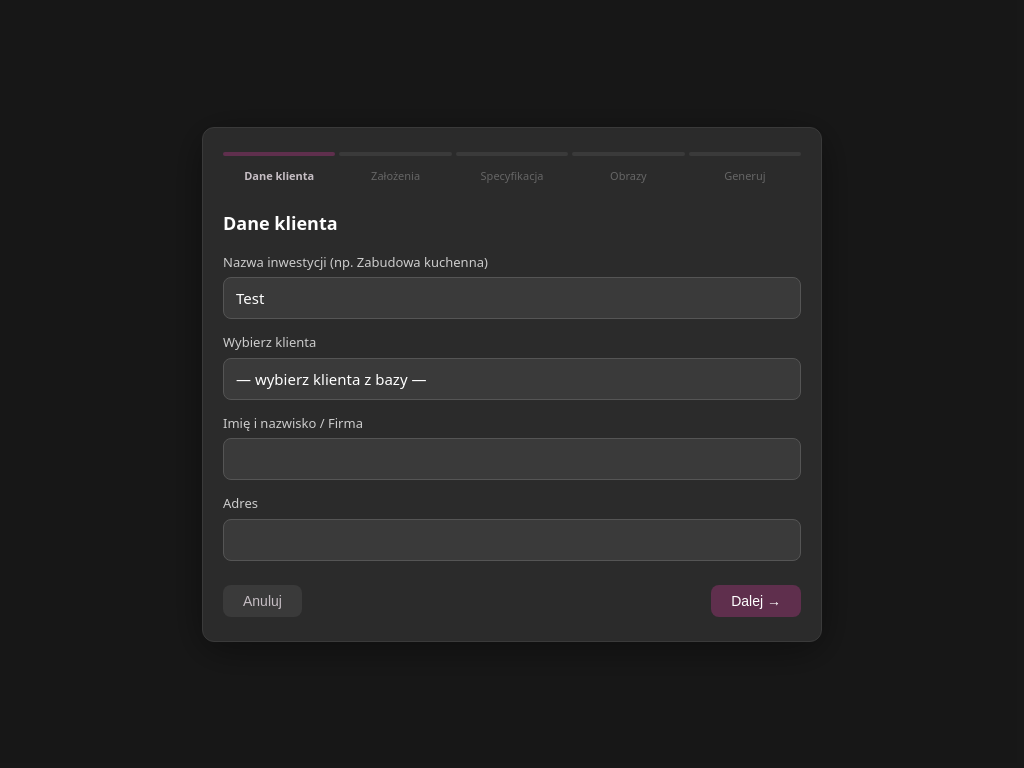
KreatorPDF › przechodzi przez wszystkie 5 krokow
This screenshot has width=1024, height=768.
Expected: the field with placeholder "np. Zabudowa kuchenna" below "Nazwa inwestycji (np. Zabudowa kuchenna)" is shown, x1=223 y1=277 x2=801 y2=319
Click the button "Dalej →" at (756, 600), box x1=711 y1=584 x2=801 y2=616
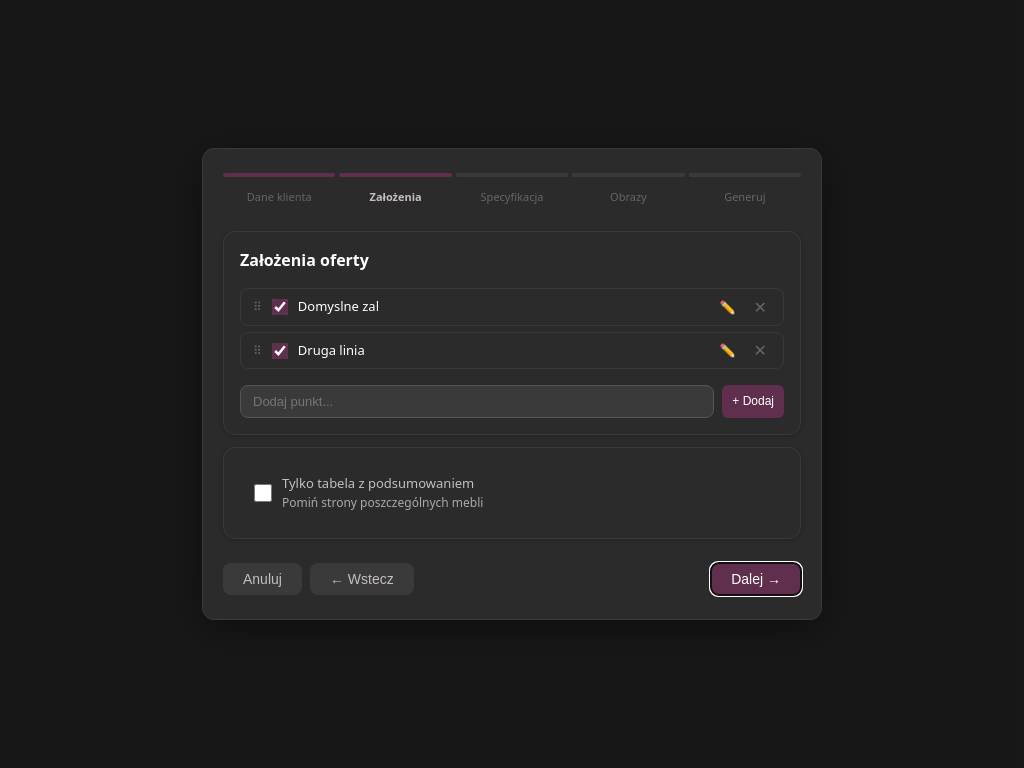
Expected: the heading "Założenia oferty" is shown, x1=240 y1=248 x2=369 y2=272
Click the button "Dalej →" at (756, 579), box x1=711 y1=563 x2=801 y2=595
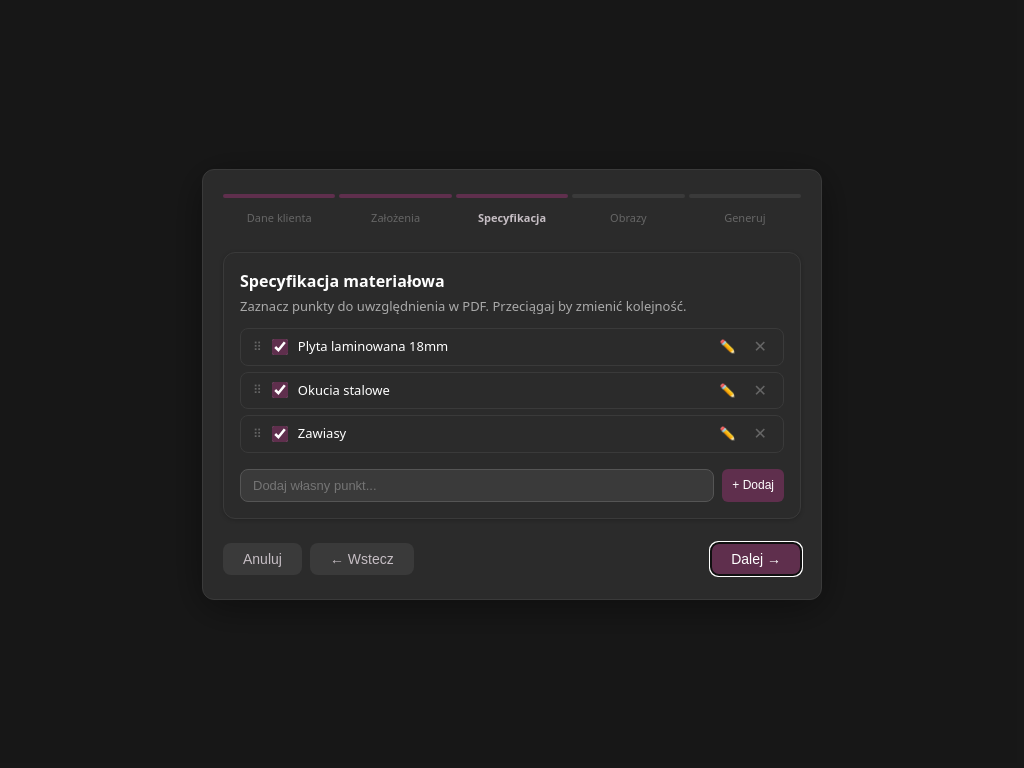
Expected: the heading "Specyfikacja materiałowa" is shown, x1=240 y1=270 x2=445 y2=292
Click the button "Dalej →" at (756, 558), box x1=711 y1=542 x2=801 y2=574
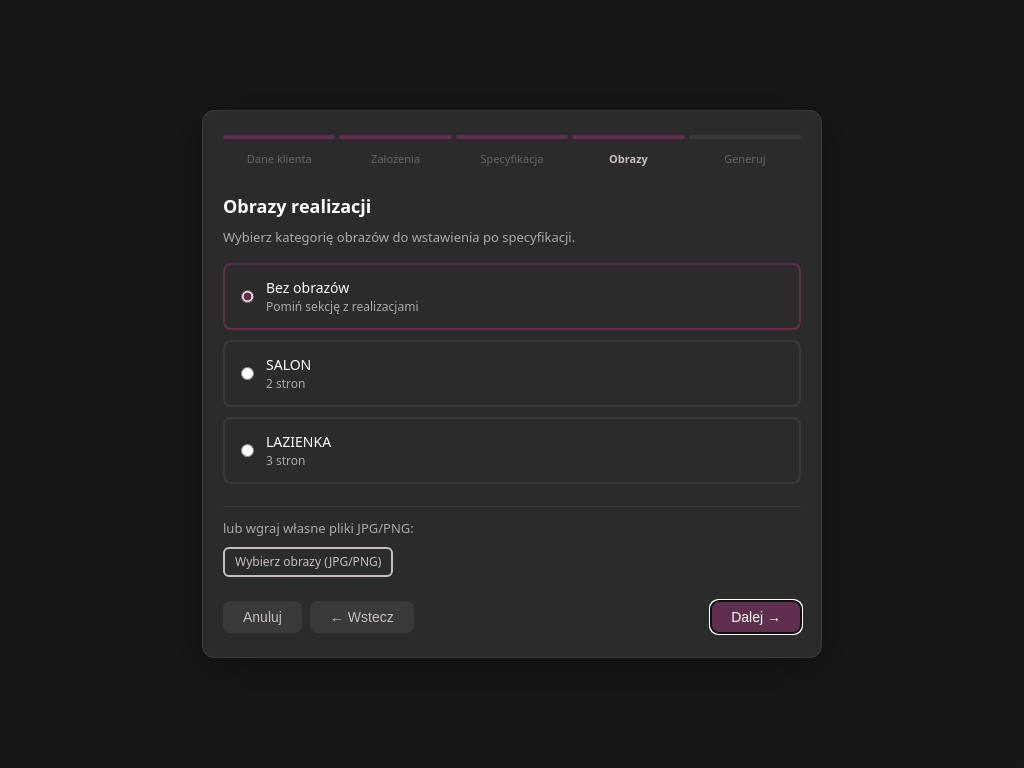
Expected: the heading "Obrazy realizacji" is shown, x1=223 y1=194 x2=371 y2=218
Click the button "Dalej →" at (756, 617), box x1=711 y1=601 x2=801 y2=633
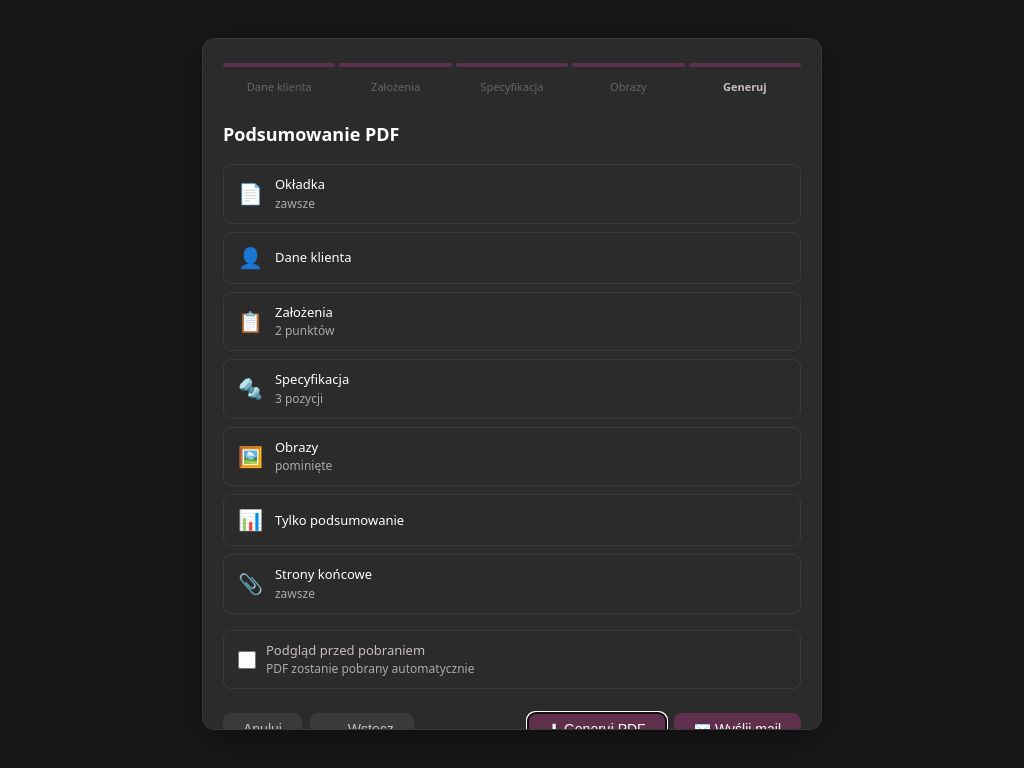
Expected: the heading "Podsumowanie PDF" is shown, x1=223 y1=122 x2=400 y2=146
